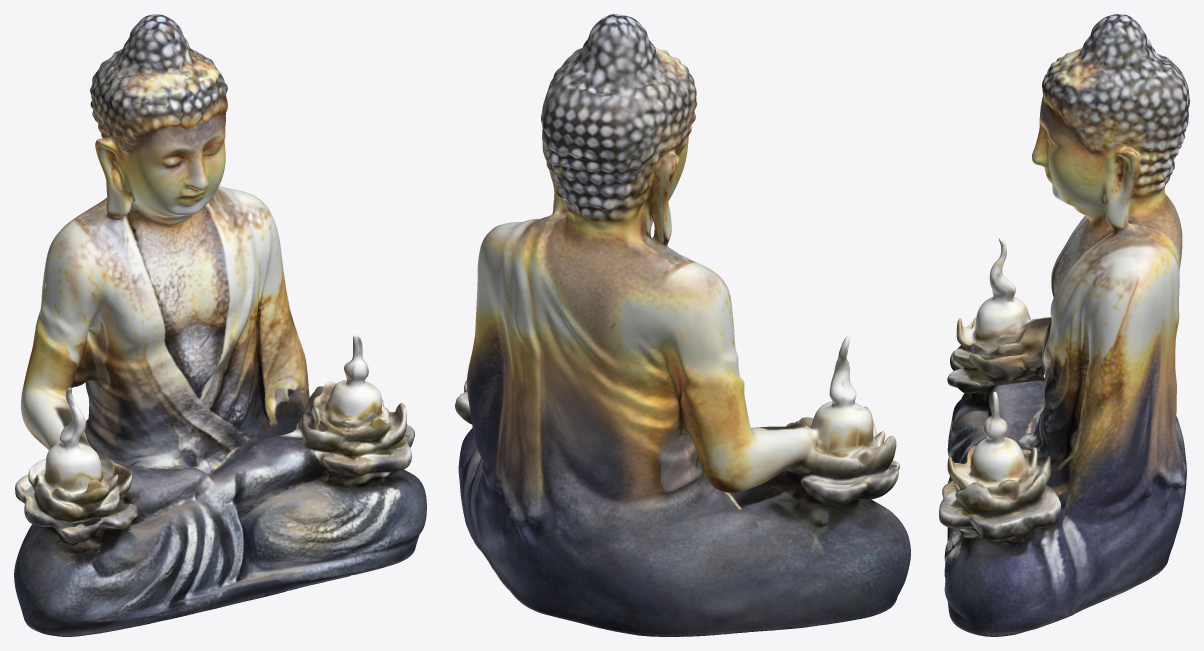
File: buddha.glb
3 renders of one model, left to right at view 1: azimuth 30°, elevation 25°; view 2: azimuth 150°, elevation 25°; view 3: azimuth 270°, elevation 25°, orthographic. The views are drawn at different scales.
Bounding box in the file's own units: 1.57 × 2 × 0.8628.
1 material, 1 textured.
